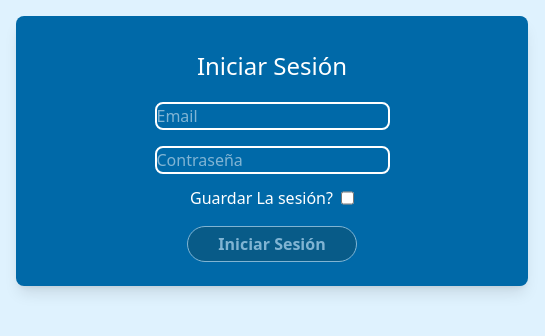
it: LoginPage › Test to email incorrect error
Type "admin.com" into the field with placeholder "Email".
click(272, 116); type("admin.com")  # box [154,102,390,130]
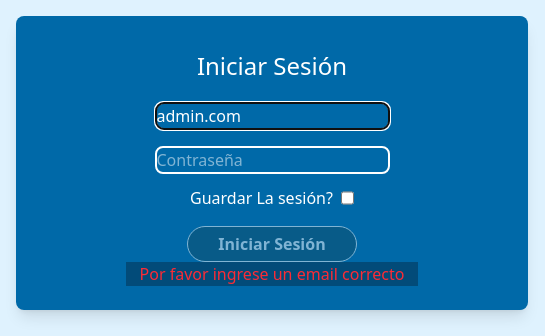
Expected: the button is disabled, [187,226,357,262]
Expected: the message reads "Por favor ingrese un email correcto", [140,263,404,285]
